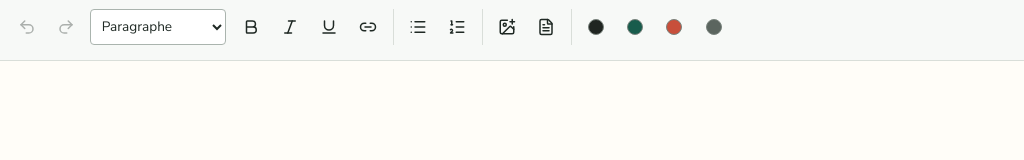
Test: EditorToolbar links › rejects a protocol outside the controlled schema without changing content
What coordinates should you click on to do the following:
click the button named "Lien"
I would click on:
 (368, 27)
Its box is [350,9,386,45].
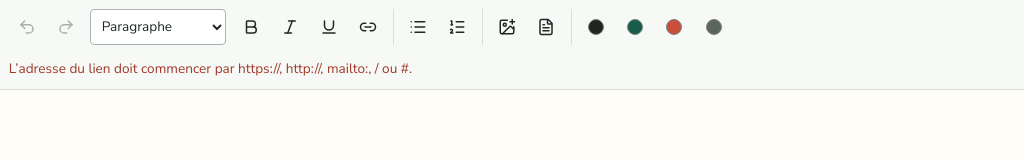
Result: the message reads "L’adresse du lien doit commencer par https://, http://, mailto:, / ou #." at [9,59,412,78]
